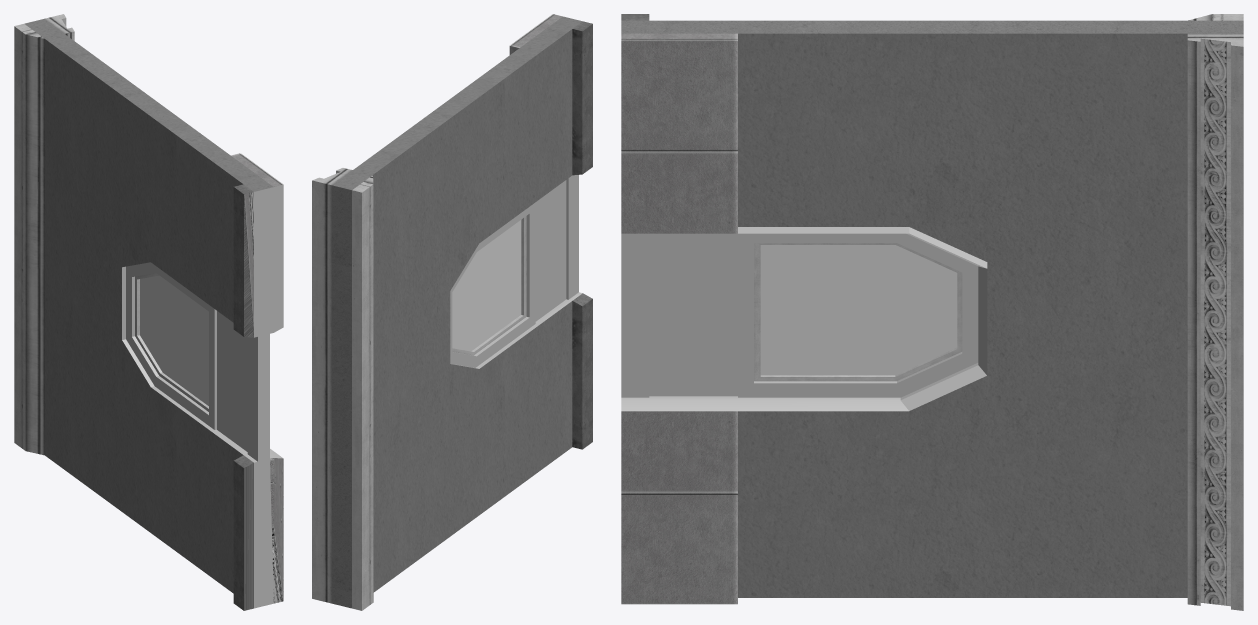
File: A_wall_small_doorway_ 4m.fbx
3 renders of one model, left to right at view 1: azimuth 30°, elevation 25°; view 2: azimuth 150°, elevation 25°; view 3: azimuth 270°, elevation 25°, orthographic. The views are drawn at different scales.
Visible parts, largest first — view 1: A_wall_small_doorway__4m, A_glass_024; view 2: A_wall_small_doorway__4m, A_glass_024; view 3: A_wall_small_doorway__4m, A_glass_024.
Part boxes in pixels (<box>): A_wall_small_doorway__4m: <box>14,14,283,610</box>; A_glass_024: <box>140,275,208,405</box>; A_wall_small_doorway__4m: <box>312,14,592,610</box>; A_glass_024: <box>452,220,521,351</box>; A_wall_small_doorway__4m: <box>621,14,1243,610</box>; A_glass_024: <box>760,245,957,375</box>.
Size of the model in its own units: 0.5 by 4 by 4.
